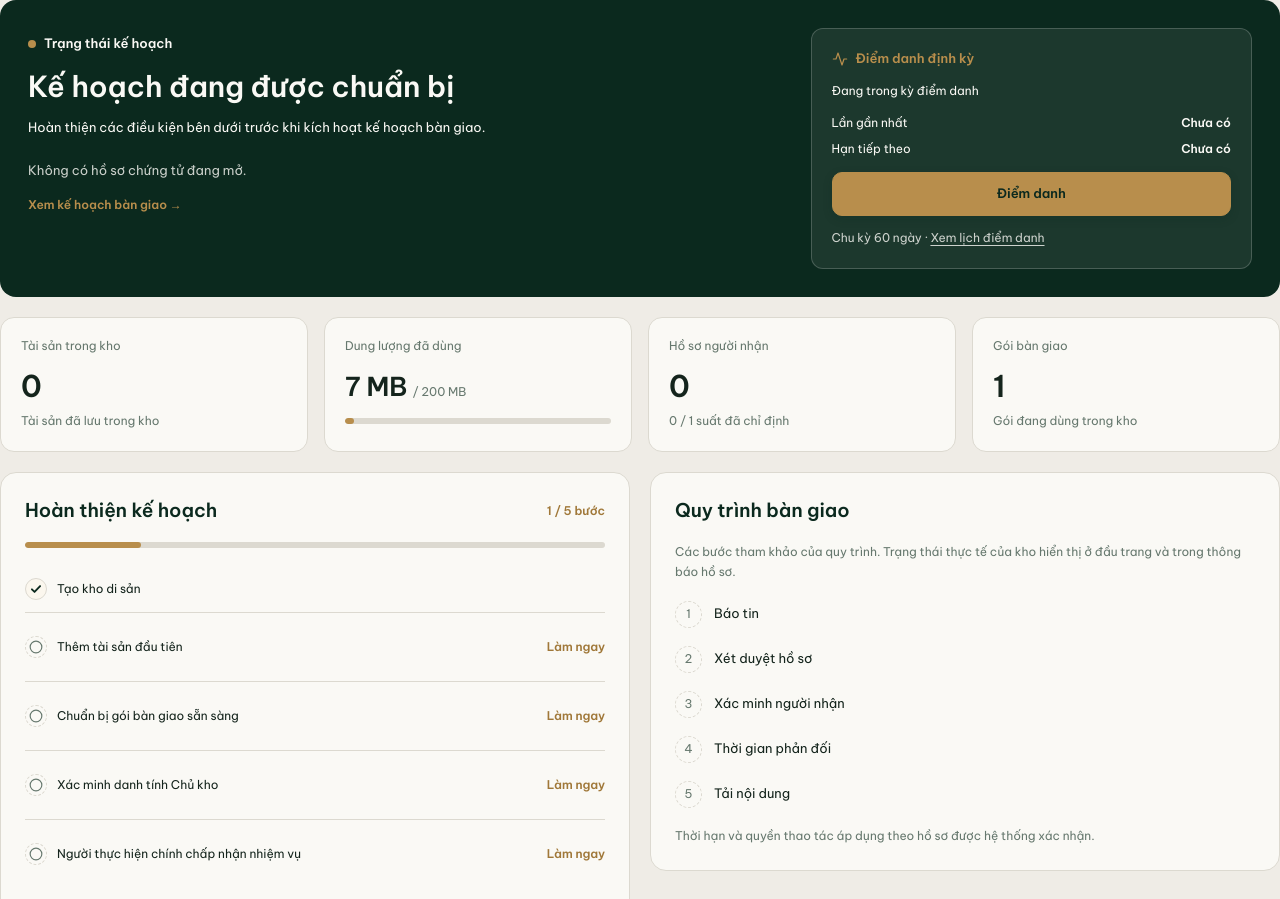
Test: Owner dashboard from server metadata › waits for check-in confirmation and synchronizes the existing cache
This screenshot has width=1280, height=899.
Click the button "Điểm danh" at [1031, 194], box [832,172,1231,216]
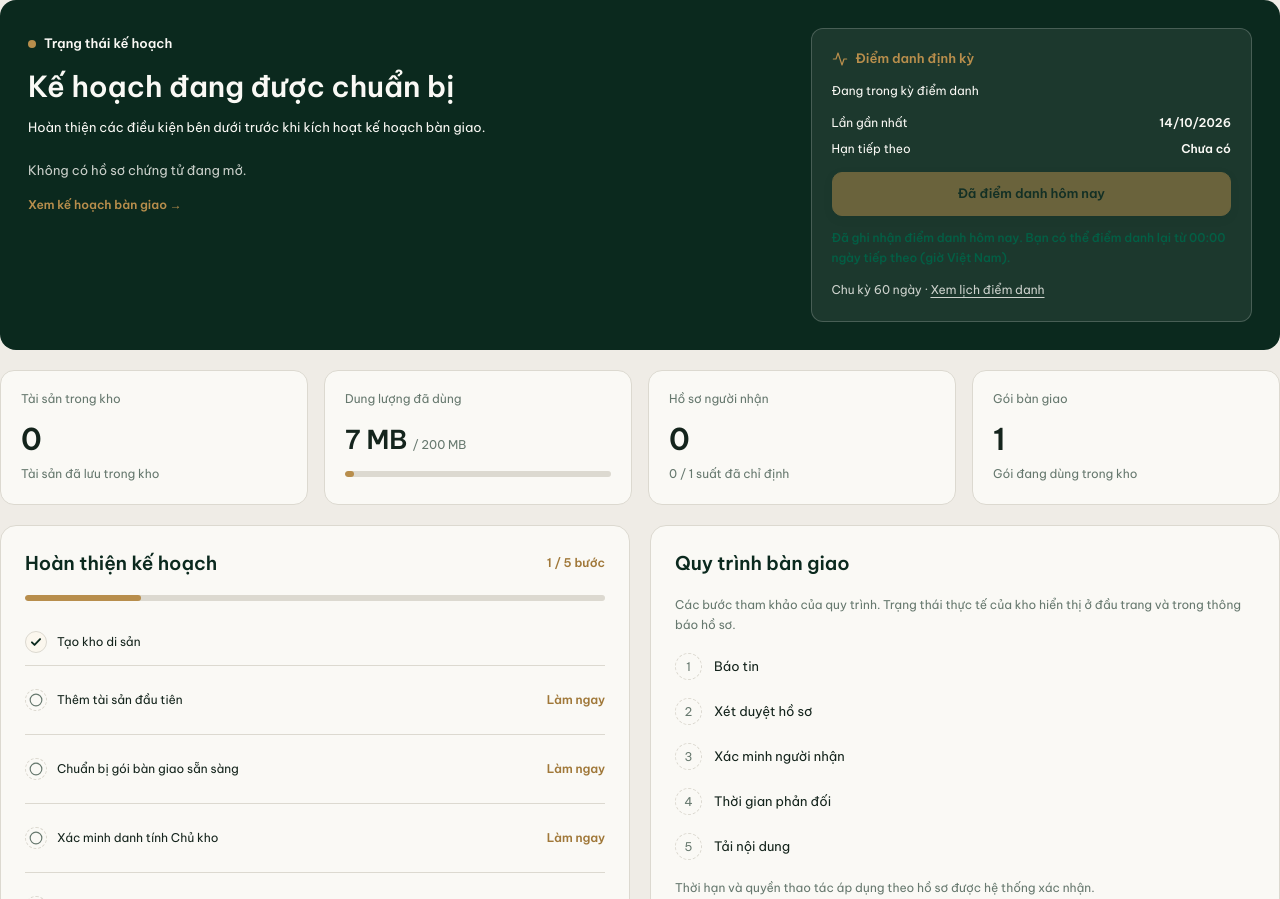
Check: the button named "Đang gửi yêu cầu…" is disabled, box [832,172,1231,216]
Check: the button "Đã điểm danh hôm nay" is disabled, box [832,172,1231,216]
